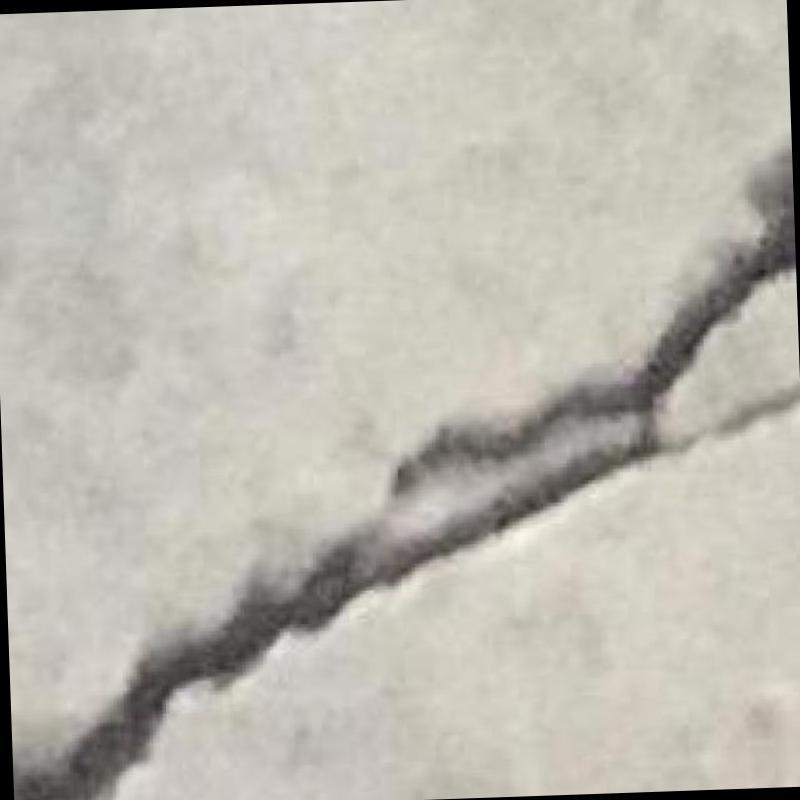crack: (12, 146, 794, 800)
